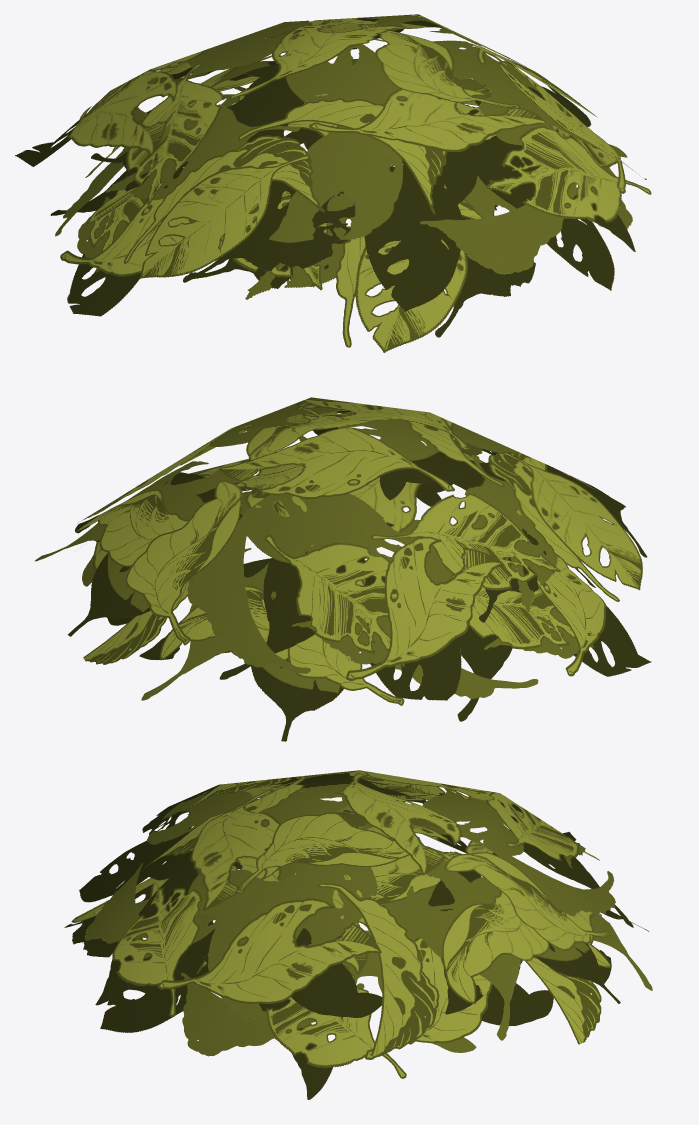
File: Leaf_Pile.fbx
3 renders of one model, top to bottom at view 1: azimuth 30°, elevation 25°; view 2: azimuth 150°, elevation 25°; view 3: azimuth 270°, elevation 25°, orthographic. The views are drawn at different scales.
Visible parts, largest first — view 1: pPlane3, pPlane2; view 2: pPlane3, pPlane2; view 3: pPlane3, pPlane2.
Boxes of the visible parts, x1,y1,x2,y2 form: pPlane3: (15,14,651,311); pPlane2: (50,59,646,352); pPlane3: (35,397,647,700); pPlane2: (82,445,651,741); pPlane3: (79,770,633,1055); pPlane2: (64,805,652,1099).
Size of the model in its own units: 0.013 by 0.00377 by 0.013.
